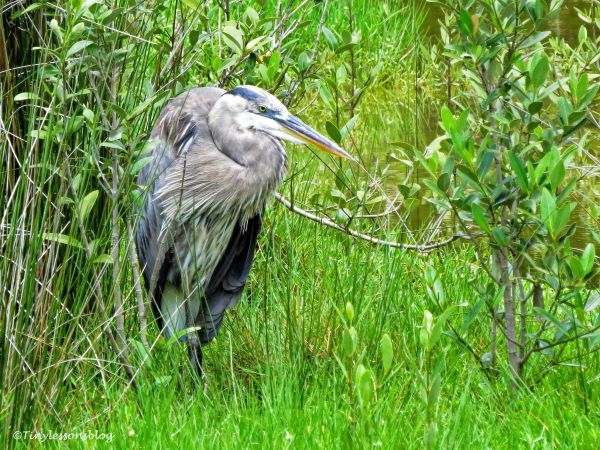heron: (129, 78, 361, 375)
